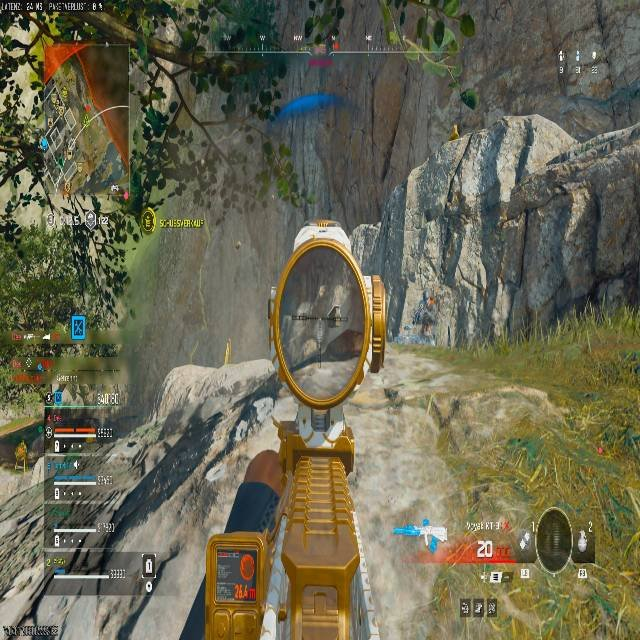head: (534, 507, 573, 571)
player: (492, 506, 621, 636), (414, 290, 435, 336)
